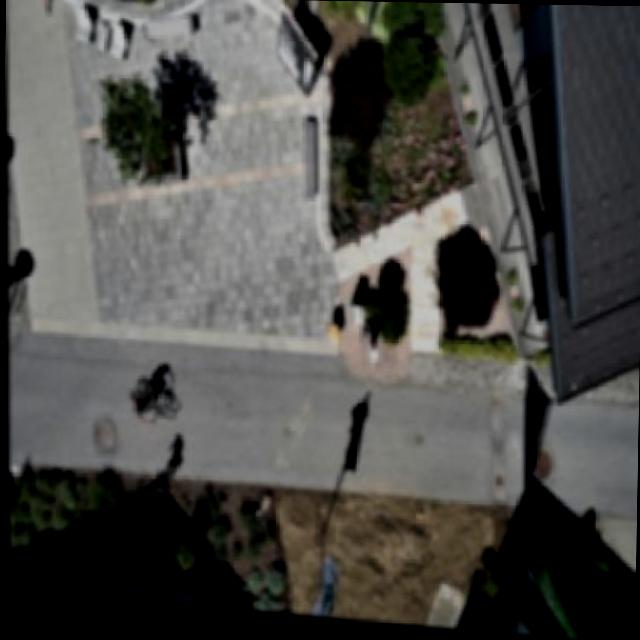Person: (6, 0, 53, 26)
